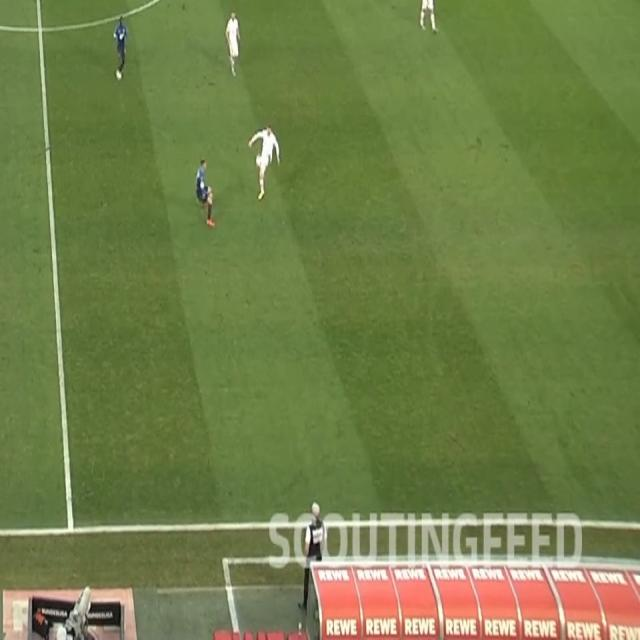ball: (256, 154, 263, 168)
